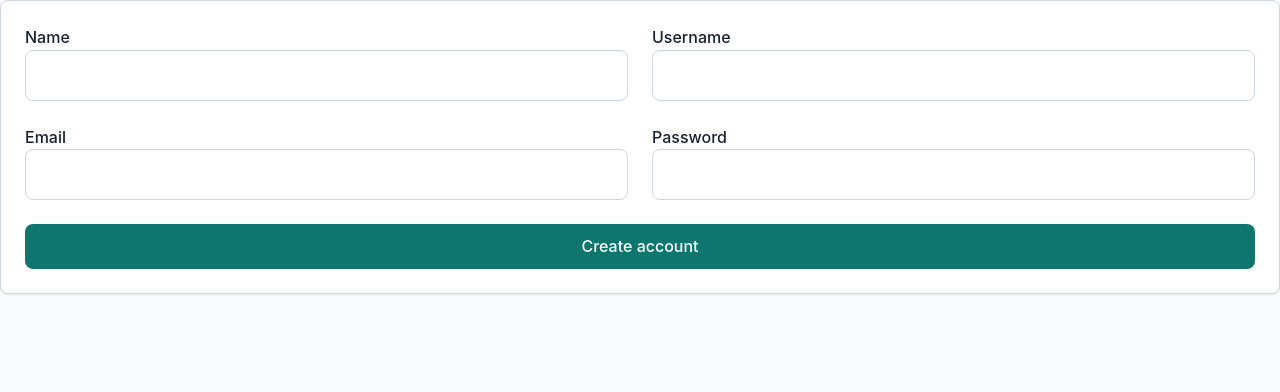
Test: RegistrationForm › prevents submission and displays client-side validation errors
Click the button "Create account": (640, 246) [25,224,1255,269]
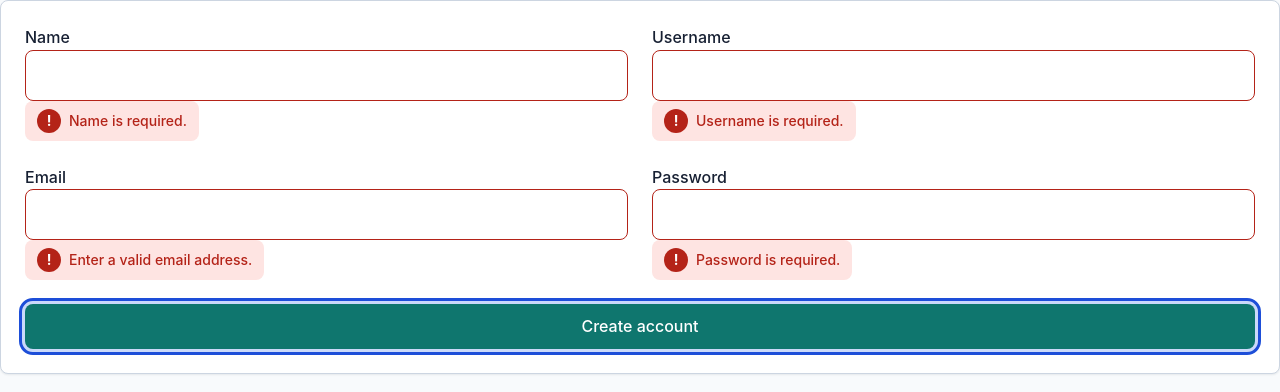
Expected: the text "Name is required." is shown, [69,111,187,130]
Expected: the text "Username is required." is shown, [696,111,844,130]
Expected: the text "Enter a valid email address." is shown, [69,250,252,270]
